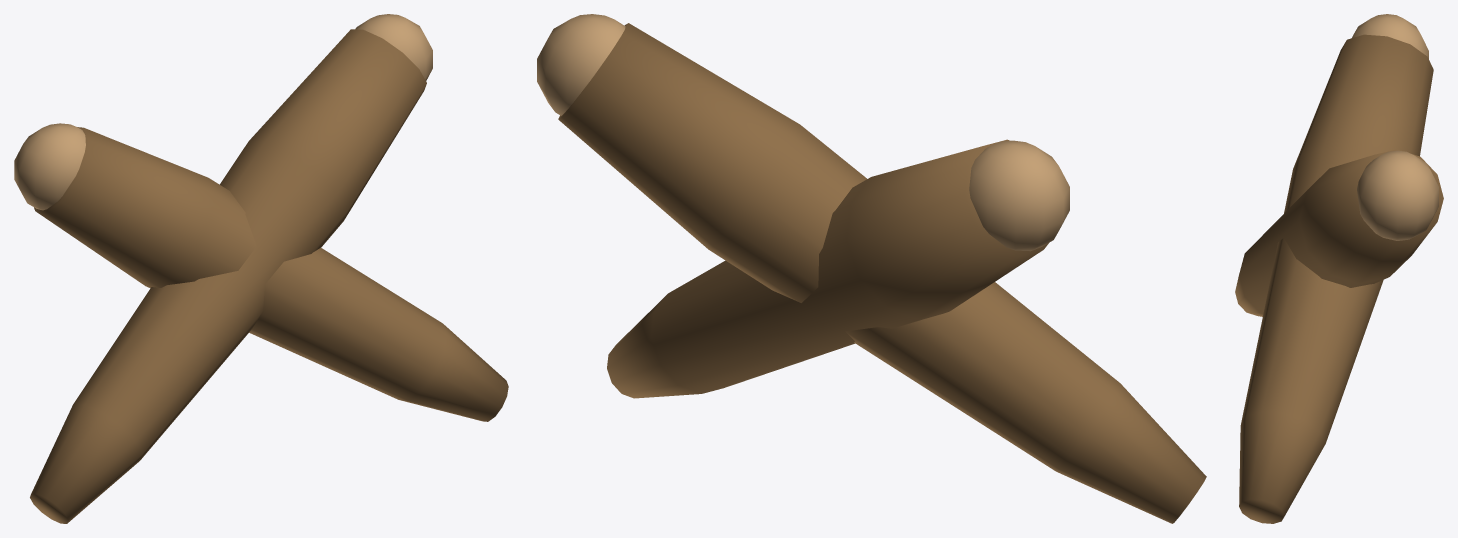
Rendered from burdock.glb.
3 views of the same model, side by side, from view 1: azimuth 30°, elevation 25°; view 2: azimuth 150°, elevation 25°; view 3: azimuth 270°, elevation 25° (orthographic). The views are drawn at different scales.
Visible parts, largest first — view 1: burdock; view 2: burdock; view 3: burdock.
Boxes of the visible parts, bbox=[...] form: burdock: bbox=[14, 14, 508, 523]; burdock: bbox=[537, 14, 1206, 523]; burdock: bbox=[1235, 14, 1443, 523].
Bounding box in the file's own units: 0.5283 × 0.3848 × 0.205.
